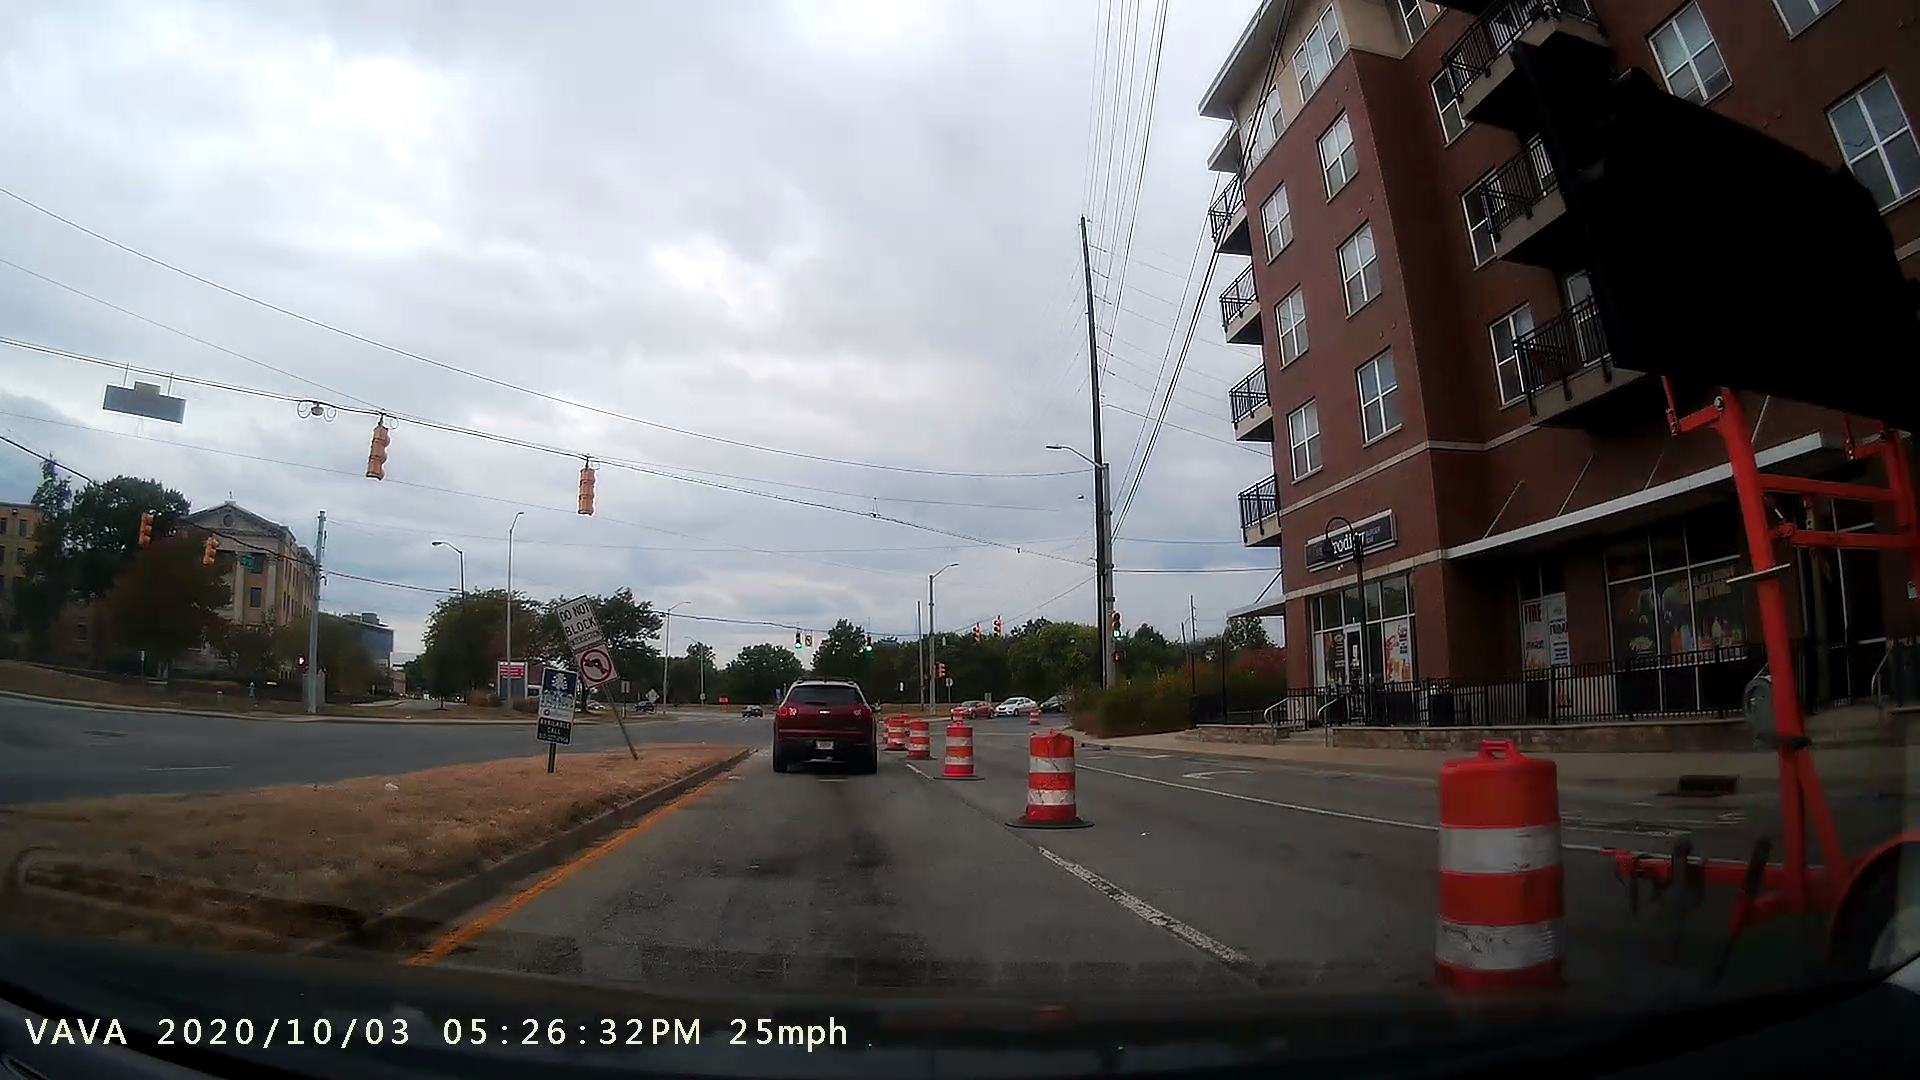const_barrel: (994, 717, 1095, 833), (934, 711, 985, 783)
